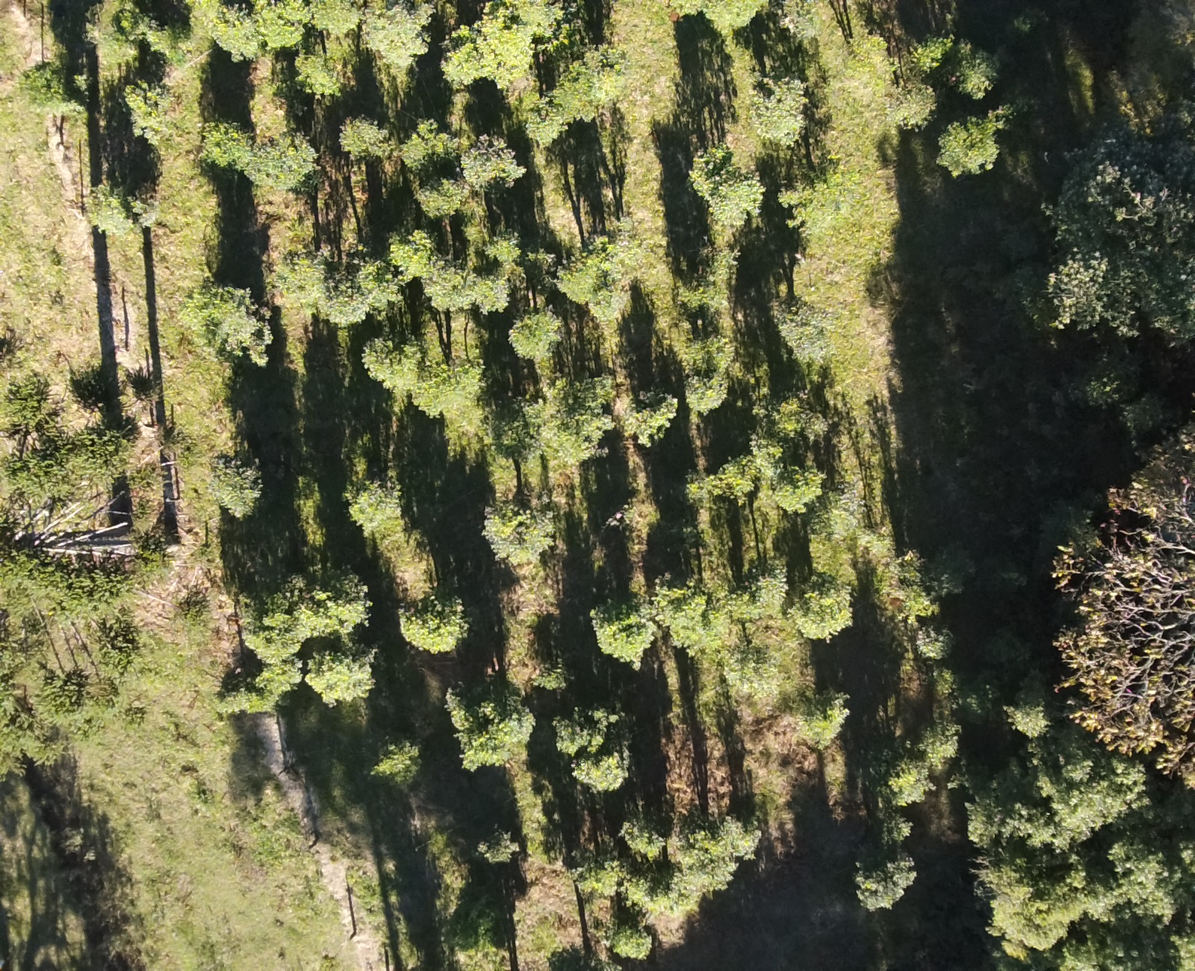erva: (176, 276, 271, 378), (533, 368, 618, 468), (115, 80, 196, 162), (654, 571, 734, 653), (479, 497, 558, 577), (765, 292, 842, 369), (777, 162, 857, 235), (577, 592, 654, 667), (357, 1, 439, 69), (939, 111, 1008, 182), (337, 465, 408, 533), (555, 51, 635, 111), (794, 572, 856, 645), (398, 595, 468, 659), (357, 332, 420, 403), (394, 115, 467, 175), (845, 849, 911, 915), (315, 642, 383, 706), (229, 592, 297, 656), (299, 572, 364, 636), (618, 383, 682, 447), (250, 127, 312, 193), (742, 78, 807, 140), (780, 689, 854, 742), (456, 131, 522, 190), (415, 355, 485, 410), (191, 6, 258, 61), (722, 636, 783, 695), (499, 300, 561, 358), (417, 249, 469, 317), (729, 558, 786, 620), (519, 96, 583, 151), (319, 265, 371, 331), (548, 713, 615, 764), (571, 745, 639, 795), (333, 113, 397, 166), (441, 19, 493, 83), (200, 120, 255, 180), (349, 246, 399, 310), (710, 807, 768, 862), (704, 171, 757, 231), (250, 1, 307, 55), (483, 0, 565, 37), (358, 736, 417, 787), (293, 46, 352, 97), (562, 249, 620, 300), (80, 184, 131, 241), (885, 80, 940, 132), (618, 859, 671, 912), (600, 919, 659, 966), (468, 693, 534, 735), (464, 267, 519, 317), (304, 0, 363, 46), (452, 730, 514, 773), (380, 223, 428, 278), (474, 225, 527, 273), (246, 656, 303, 699), (620, 812, 668, 862), (470, 824, 518, 872), (772, 467, 825, 510), (569, 842, 615, 890), (688, 368, 740, 408), (714, 450, 753, 503), (437, 680, 472, 730), (687, 153, 730, 193), (407, 183, 450, 222), (739, 426, 777, 470), (133, 183, 158, 225), (528, 660, 565, 687)
